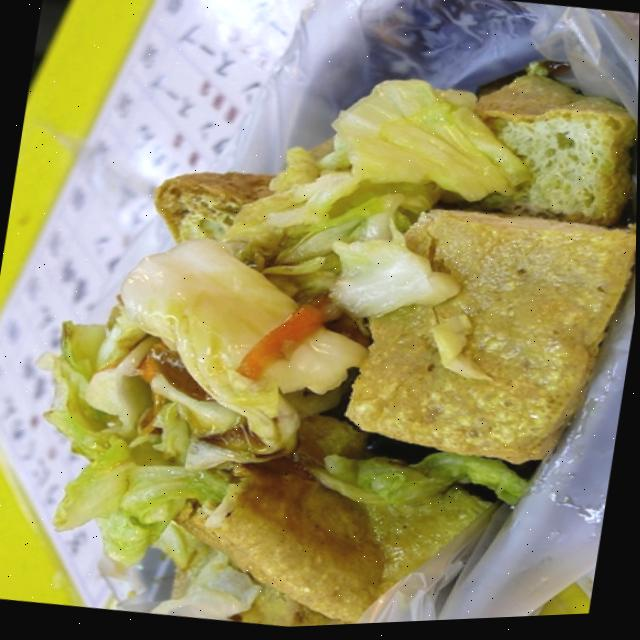豆腐料理: (2, 0, 640, 640)
